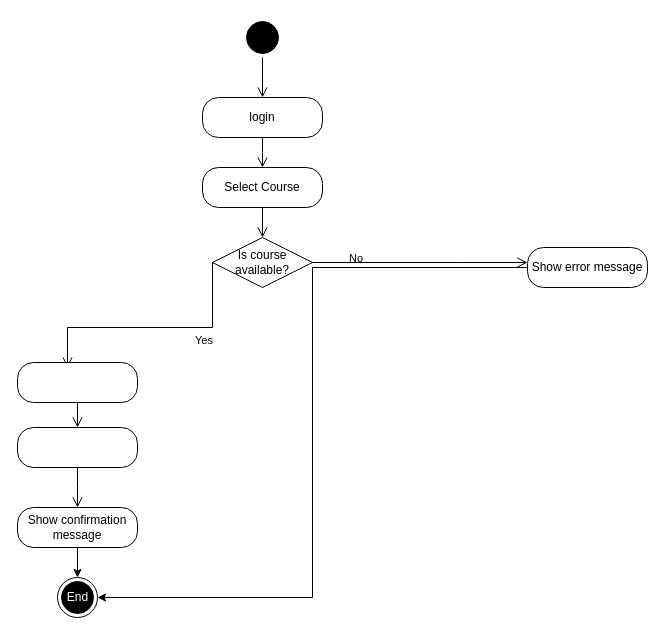
Some shapes in this 665 by 635 pixel diagram are drawn without their labels. The centre of each missing label's shape, as x and y in pixels:
"Enroll in course" goes at (x=77, y=382).
"Start" goes at (x=262, y=37).
"update database" goes at (x=77, y=447).
